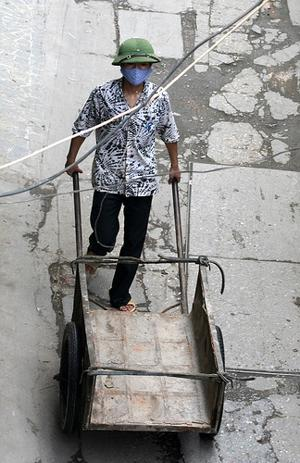person: (65, 38, 181, 314)
